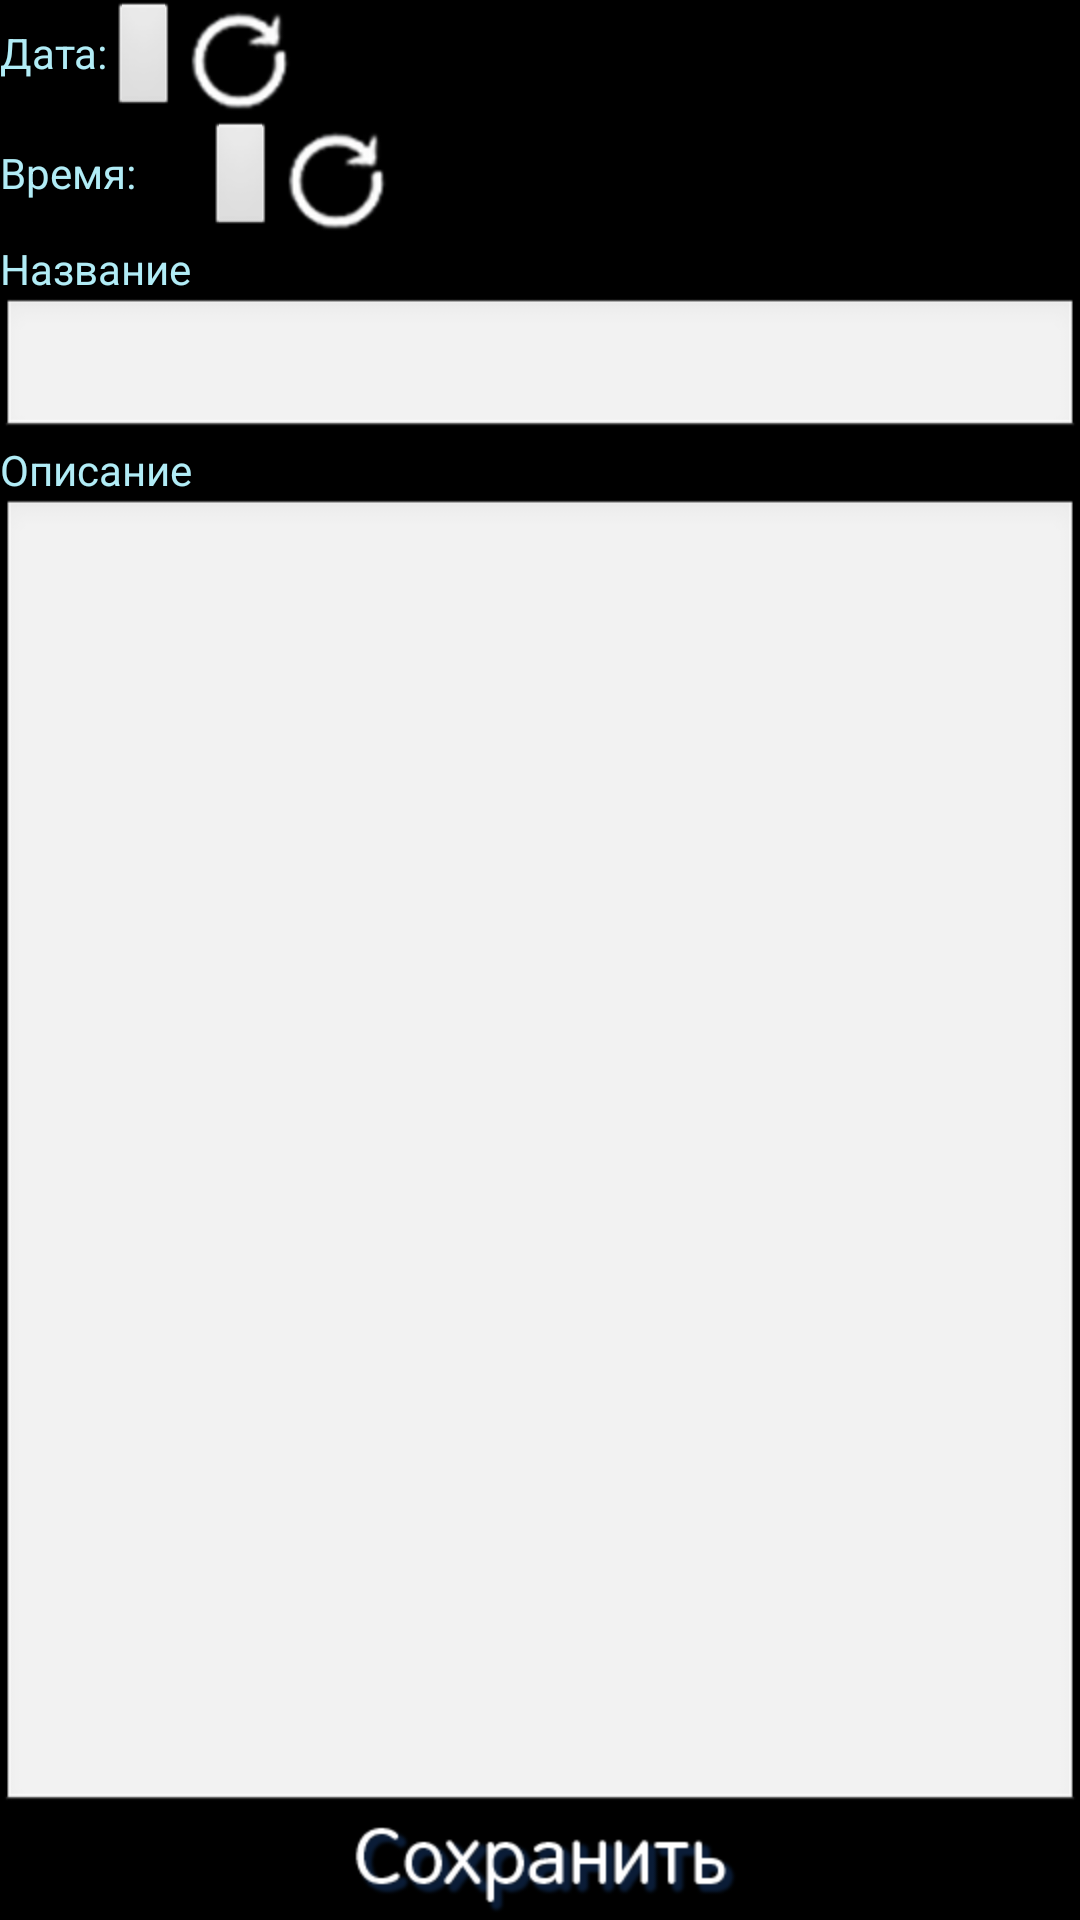

Icon click points for this 1080x1920 phone screenshot, format point (x, y):
update state: point (239, 61), point (336, 181)
